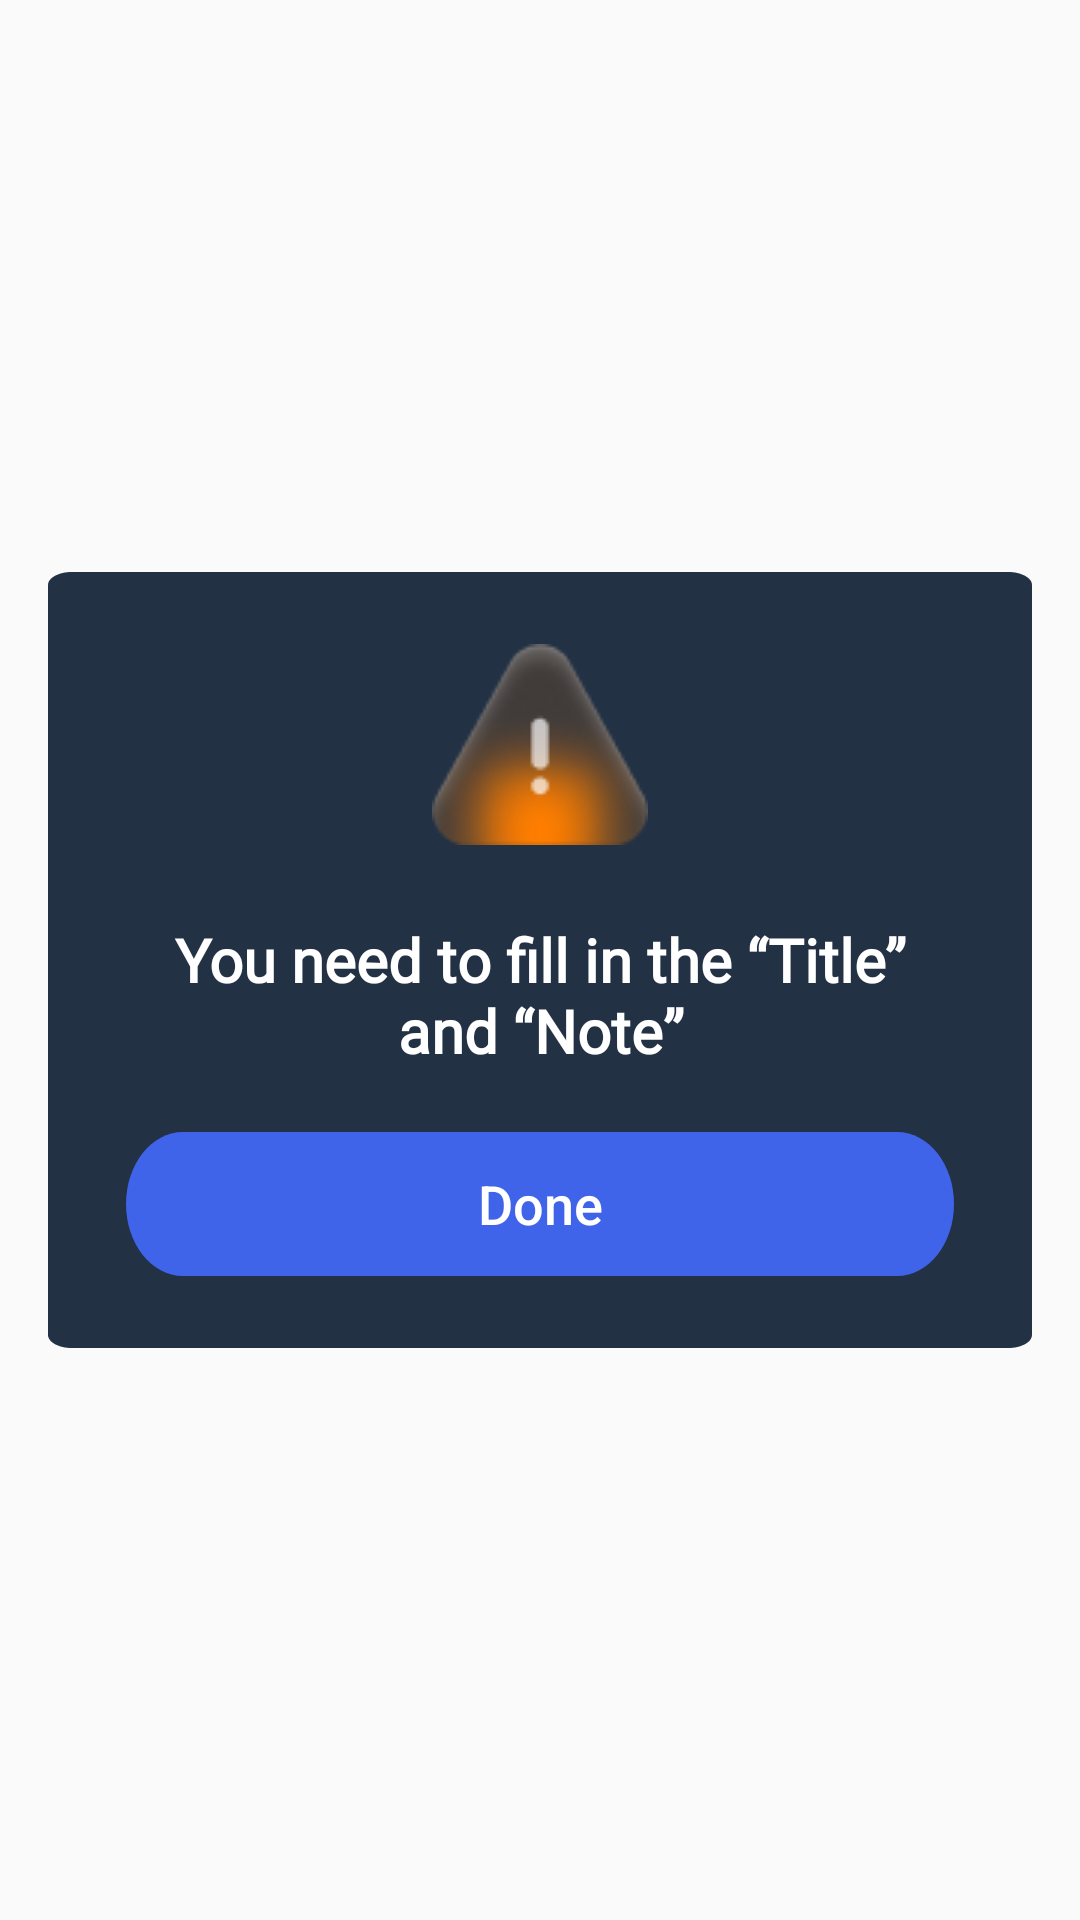

Icon bounding boxes for this 1080px x 1920px phone screenshot, format (x1, y1, x2, y2):
warning: (432, 644, 648, 845)
